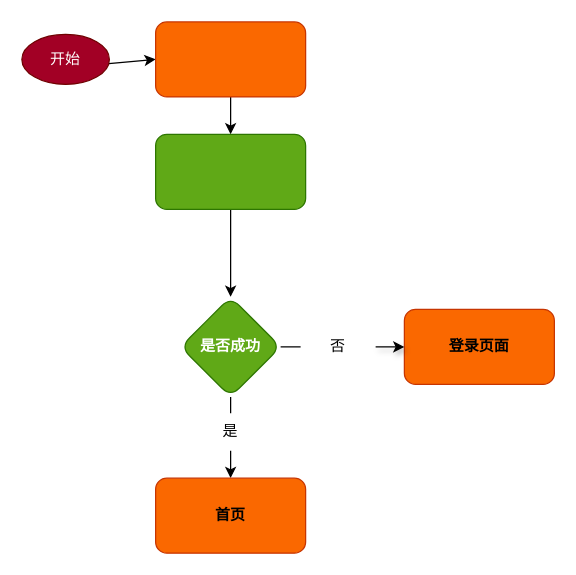
Some shapes in this 576 by 575 pixel diagram are drawn without their labels. The shapes that lost their labels are listed below. From the top down, each one's centre as x and y in pixels, then its label:
At [230,59]: "Loading页面".
At [230,171]: "接口获取OpenId".
